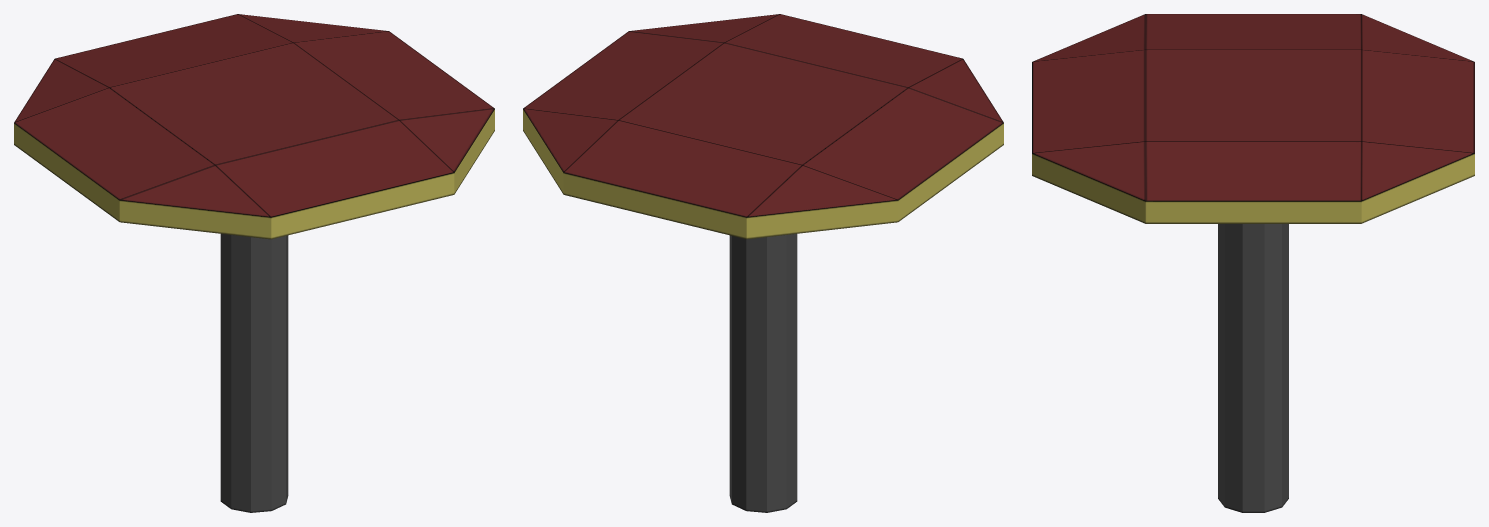
The model's file is Stool.fbx.
3 renders of one model, left to right at view 1: azimuth 30°, elevation 25°; view 2: azimuth 150°, elevation 25°; view 3: azimuth 270°, elevation 25°, orthographic. The views are drawn at different scales.
Parts seen in each view (by area): view 1: Stool; view 2: Stool; view 3: Stool.
Part boxes in pixels (bbox=[...]): Stool: bbox=[14, 14, 494, 512]; Stool: bbox=[523, 14, 1003, 512]; Stool: bbox=[1032, 14, 1474, 512].
Bounding box in the file's own units: 200 × 201 × 200.
